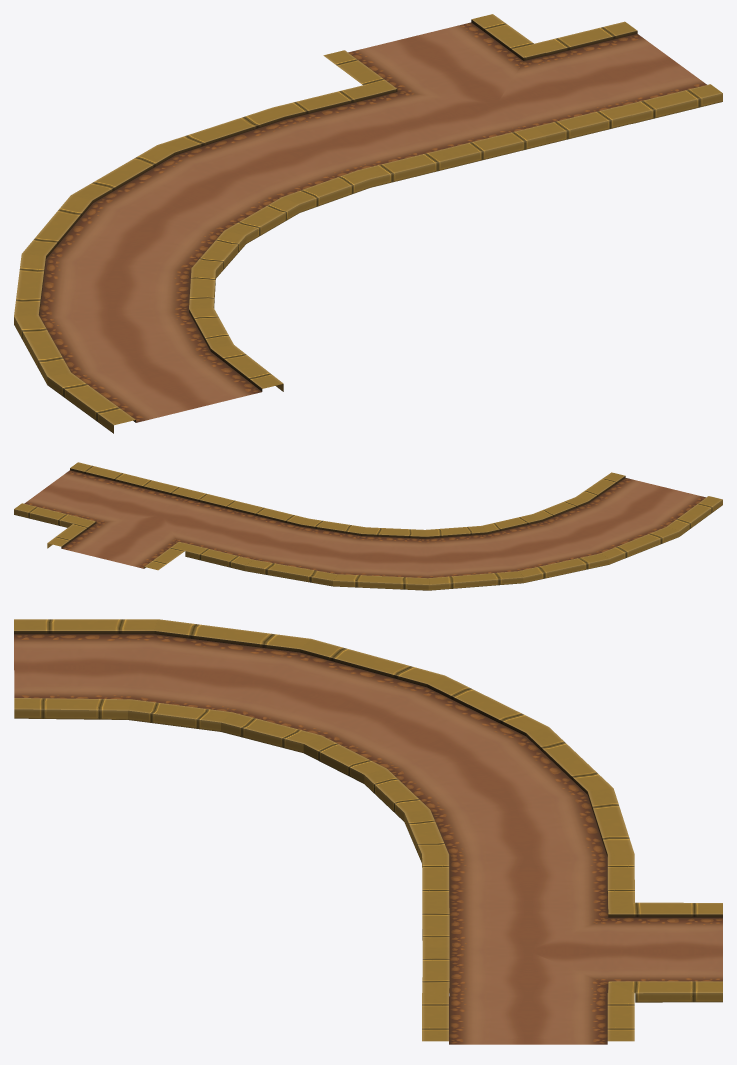
Rendered from RoadPiece_11.FBX.
3 views of the same model, one above another, from view 1: azimuth 30°, elevation 25°; view 2: azimuth 150°, elevation 25°; view 3: azimuth 270°, elevation 25° (orthographic). The views are drawn at different scales.
Visible parts, largest first — view 1: RoadPiece_11; view 2: RoadPiece_11; view 3: RoadPiece_11.
Boxes of the visible parts, bbox=[...] form: RoadPiece_11: bbox=[14, 14, 722, 433]; RoadPiece_11: bbox=[14, 462, 722, 590]; RoadPiece_11: bbox=[14, 619, 722, 1044].
Bounding box in the file's own units: 7.67 × 0.08 × 5.44.
